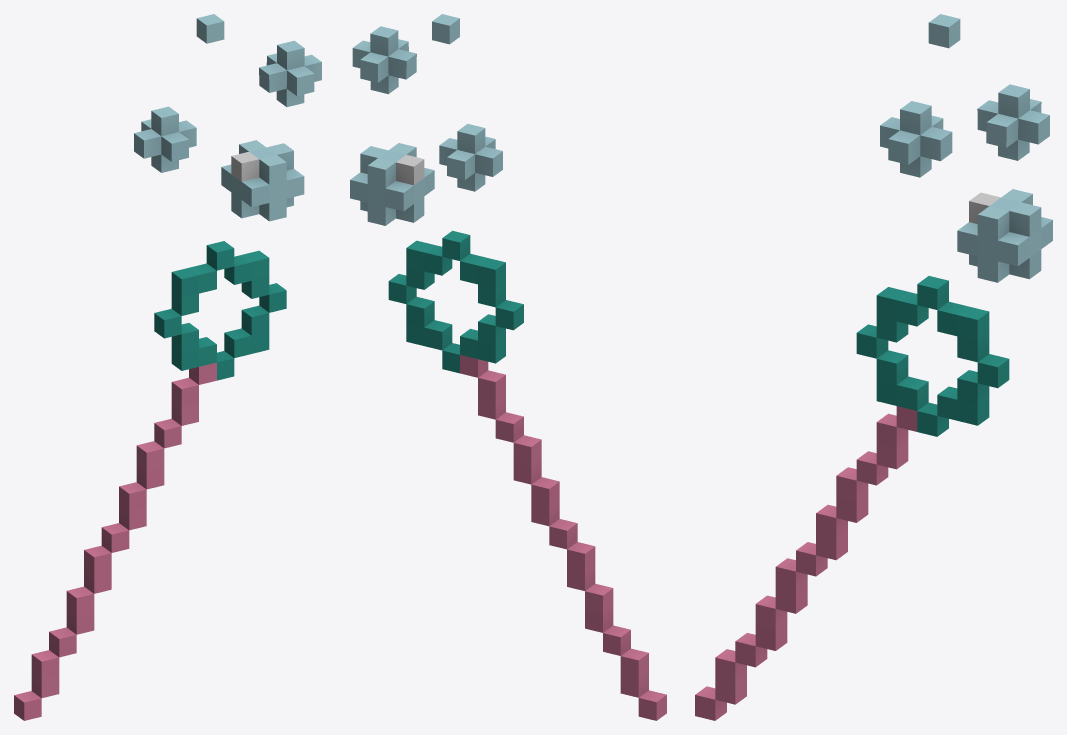
File: back_bubblewand.glb
The picture shows the model from 3 angles, left to right: view 1: azimuth 30°, elevation 25°; view 2: azimuth 150°, elevation 25°; view 3: azimuth 330°, elevation 25°; orthographic projection. The views are drawn at different scales.
Visible parts, largest first — view 1: Back; view 2: Back; view 3: Back.
Part boxes in pixels (<box>): Back: <box>14,14,321,720</box>; Back: <box>350,14,666,720</box>; Back: <box>695,14,1052,720</box>.
Bounding box in the file's own units: 1.87 × 3.85 × 0.5488.
